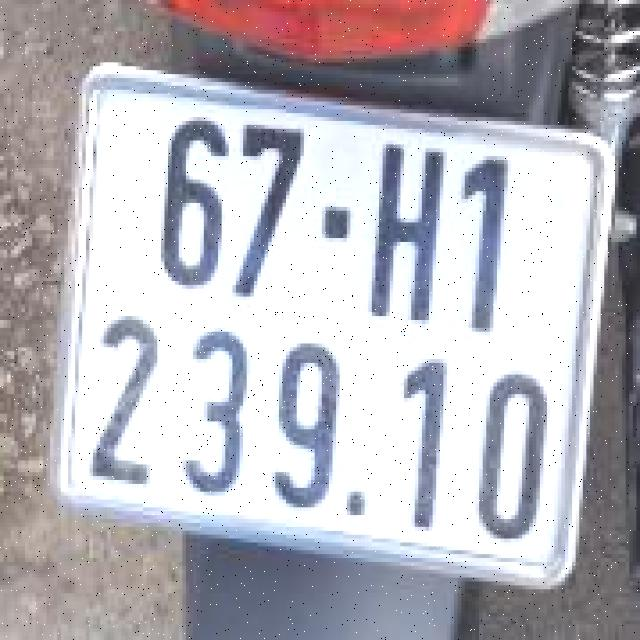0: (476, 365, 558, 552)
1: (458, 154, 522, 349), (395, 342, 456, 544)
2: (89, 298, 168, 494)
3: (186, 322, 261, 505)
6: (150, 107, 243, 291)
7: (234, 109, 306, 316)
9: (268, 332, 354, 530)
H: (352, 125, 452, 332)
